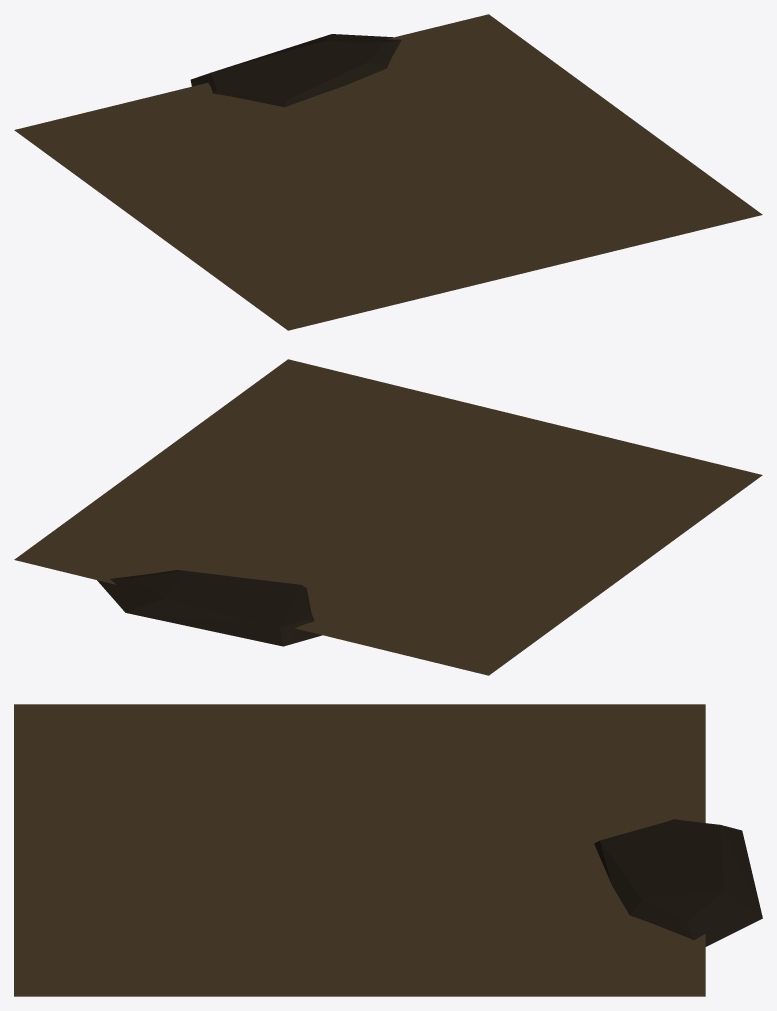
File: Floor.012.fbx
3 renders of one model, top to bottom at view 1: azimuth 30°, elevation 25°; view 2: azimuth 150°, elevation 25°; view 3: azimuth 270°, elevation 25°, orthographic. The views are drawn at different scales.
Parts seen in each view (by area): view 1: Floor.012; view 2: Floor.012; view 3: Floor.012.
Part boxes in pixels (box(x1,y1,x2,y2)): Floor.012: box(14, 14, 762, 330); Floor.012: box(14, 359, 762, 675); Floor.012: box(14, 704, 762, 996).
Size of the model in its own units: 100 by 2.72 by 108.
